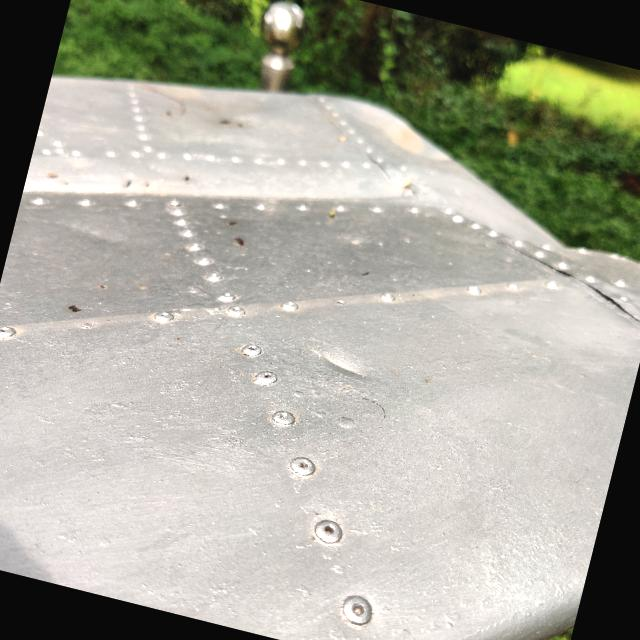dent: (285, 315, 399, 421)
